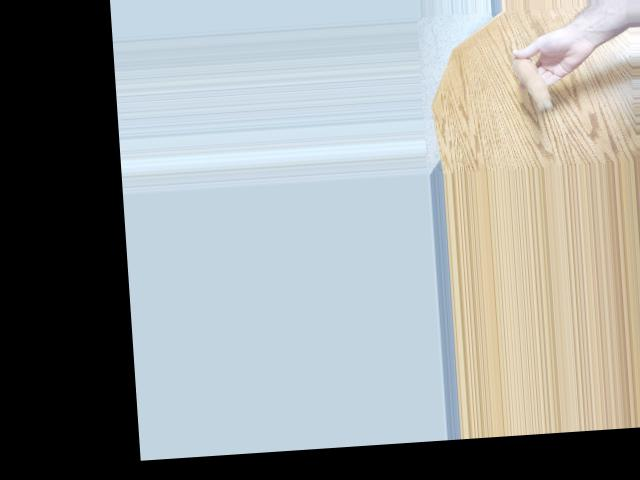sweet_potato: (511, 49, 555, 112)
